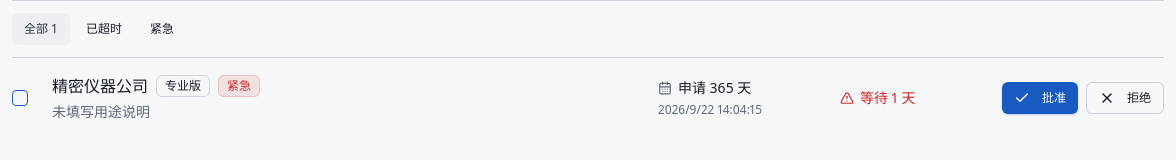
Test: super-admin operating views › shows request SLA and supports queue selection
The width and height of the screenshot is (1176, 160).
Expected: the text "等待 1 天" is shown, [840,88,916,107]
Expected: the number of buttons "紧急" is 2, [138,13,186,45]; [218,75,260,97]
What coordinates should you click on to do the following:
click the checkbox
I would click on:
 (20, 98)
Its box is [12,90,28,106].
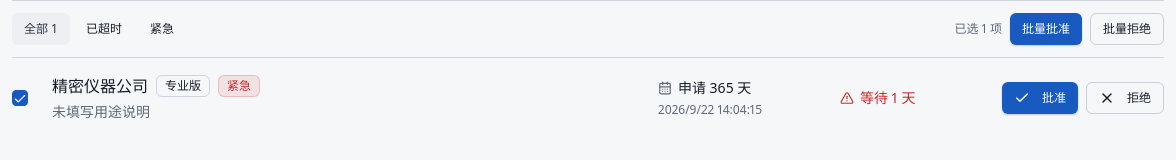
Expected: the text "已选 1 项" is shown, [954,21,1002,37]
